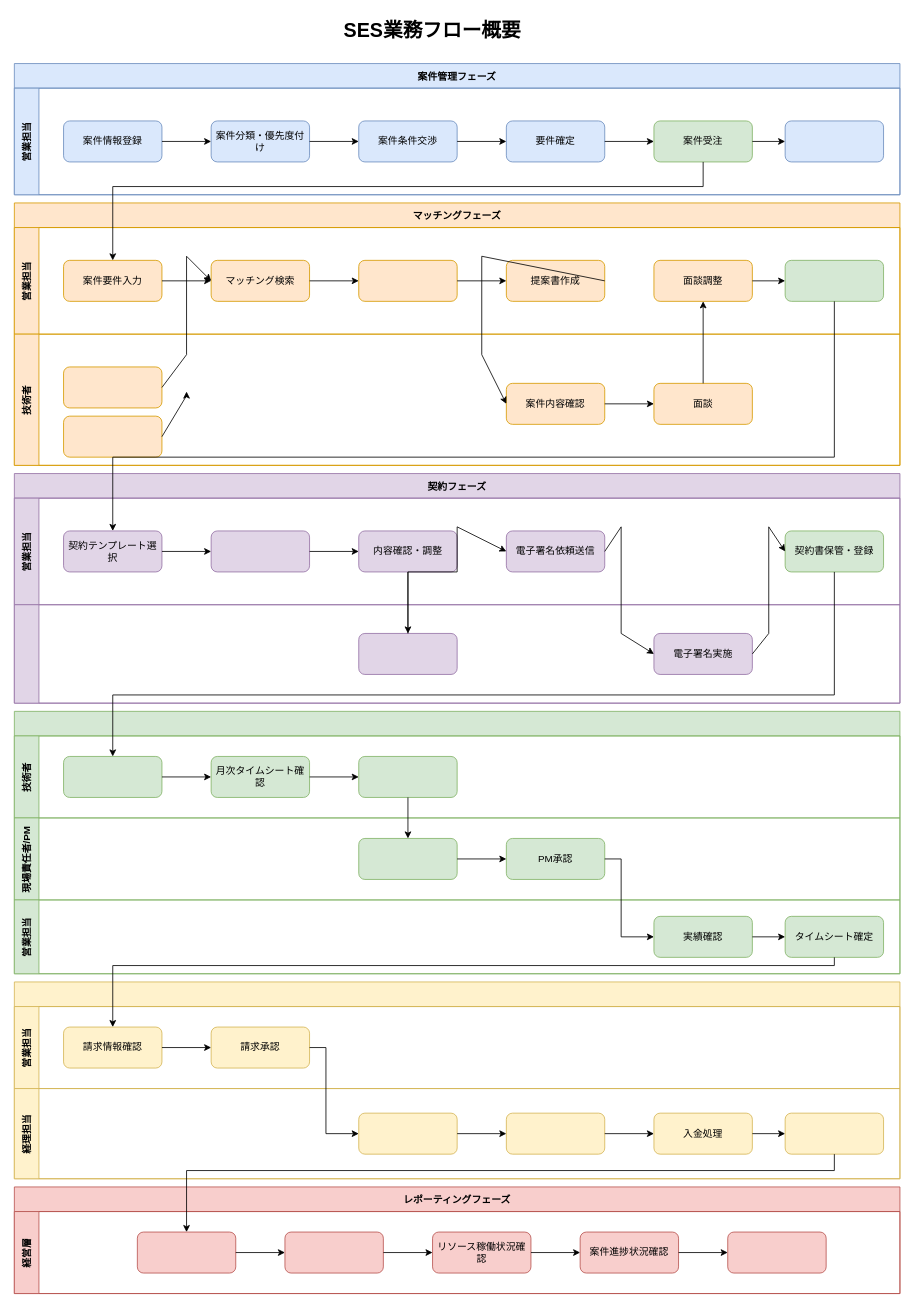
Image size: 914x1308. Some labels were removed from this diagram. The box of each missing label's shape, as (x1, y1, x2, y2) in pixels:
アサイン確定: (784, 260, 884, 301)
スキルタグ登録: (63, 415, 162, 457)
ダッシュボード閲覧: (137, 1231, 236, 1273)
プロフィール更新: (63, 366, 162, 408)
会計システム連携: (784, 1112, 884, 1154)
候補者確認: (358, 260, 457, 301)
勤怠内容確認: (358, 838, 457, 879)
勤怠管理フェーズ: (14, 711, 900, 974)
売上レポート確認: (284, 1231, 383, 1273)
売上予測確認: (727, 1231, 826, 1273)
契約書作成: (210, 530, 310, 572)
契約条件交渉: (358, 633, 457, 674)
承認依頼提出: (358, 756, 457, 797)
日次勤怠入力: (63, 756, 162, 797)
請求・支払フェーズ: (14, 981, 900, 1179)
請求書生成: (358, 1112, 457, 1154)
請求書送付: (506, 1112, 605, 1154)
関連ドキュメント登録: (784, 120, 884, 162)
顧客/パートナー: (14, 604, 900, 703)
